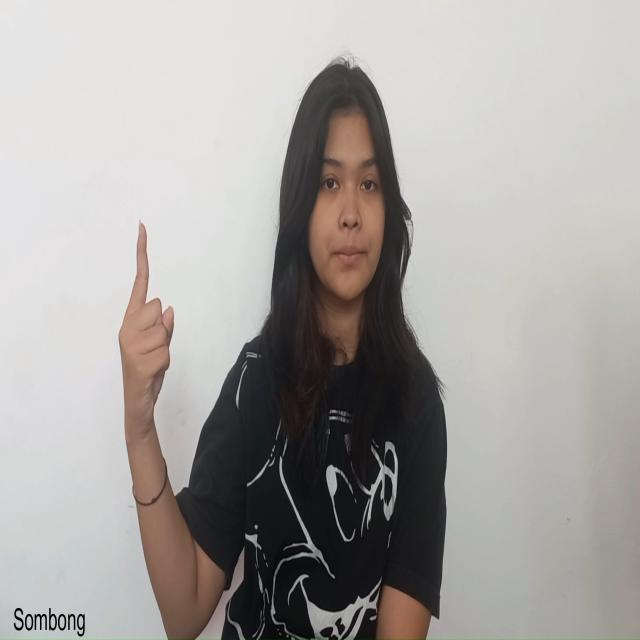Sombong -BISINDO-: (116, 216, 176, 452)
